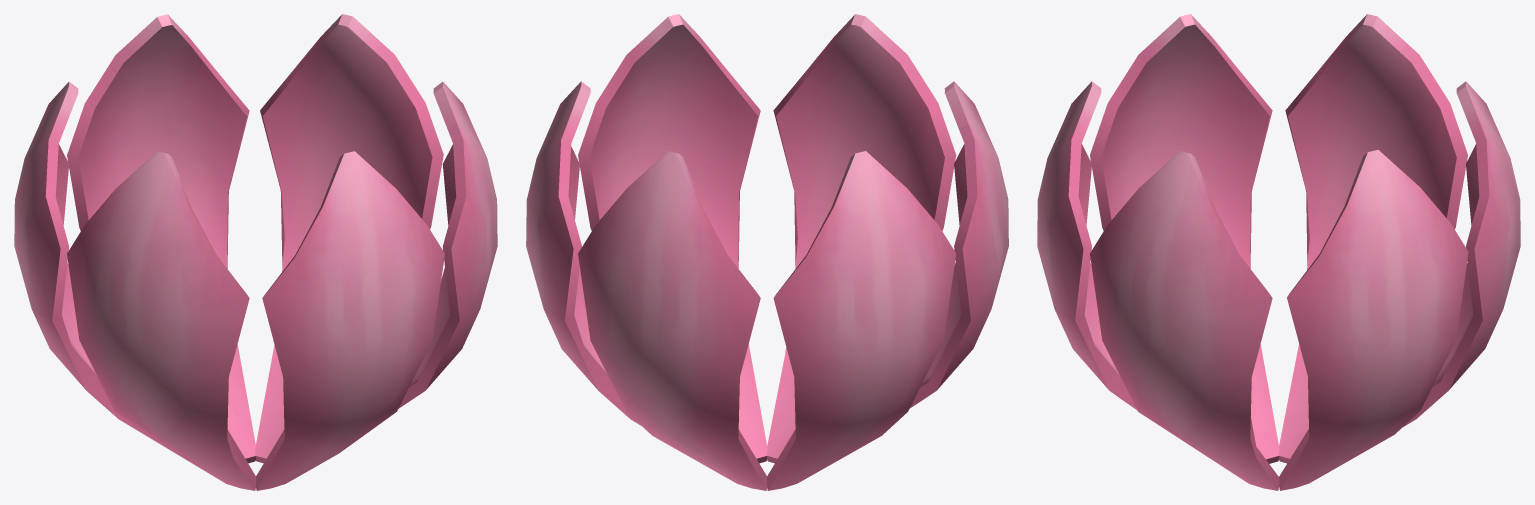
Rendered from lotus.lod0.glb.
3 views of the same model, side by side, from view 1: azimuth 30°, elevation 25°; view 2: azimuth 150°, elevation 25°; view 3: azimuth 270°, elevation 25° (orthographic).
Visible parts, largest first — view 1: Object_3; view 2: Object_3; view 3: Object_3.
Part boxes in pixels (bbox=[...]): Object_3: bbox=[14, 14, 497, 490]; Object_3: bbox=[526, 14, 1008, 490]; Object_3: bbox=[1037, 14, 1520, 490].
Bounding box in the file's own units: 0.9411 × 0.9 × 1.
1 material, 1 textured.
